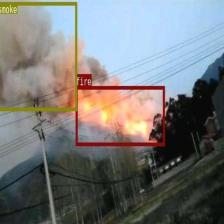fire: (76, 86, 164, 146)
smoke: (0, 2, 77, 110)
